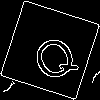Q: (25, 25, 82, 86)
